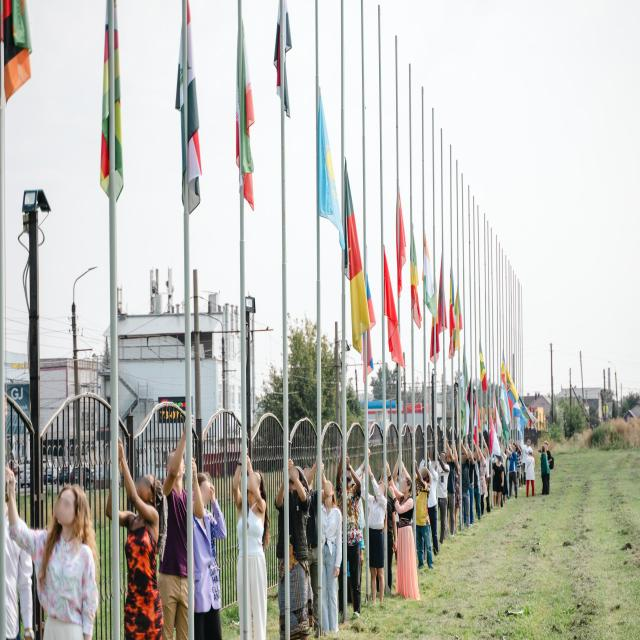Person: (33, 471, 93, 640), (124, 456, 162, 640), (276, 455, 312, 640), (233, 450, 266, 640), (191, 471, 223, 640), (168, 440, 192, 640), (363, 470, 392, 623), (316, 466, 340, 640), (338, 454, 361, 626), (396, 466, 420, 603), (414, 466, 434, 568), (432, 453, 451, 555), (426, 460, 440, 561), (443, 446, 457, 544), (458, 446, 470, 536), (470, 449, 480, 530), (492, 451, 504, 510), (524, 446, 536, 499), (509, 445, 519, 504), (500, 445, 510, 502), (542, 440, 552, 493), (540, 442, 549, 496), (483, 445, 489, 511), (524, 438, 533, 462)
